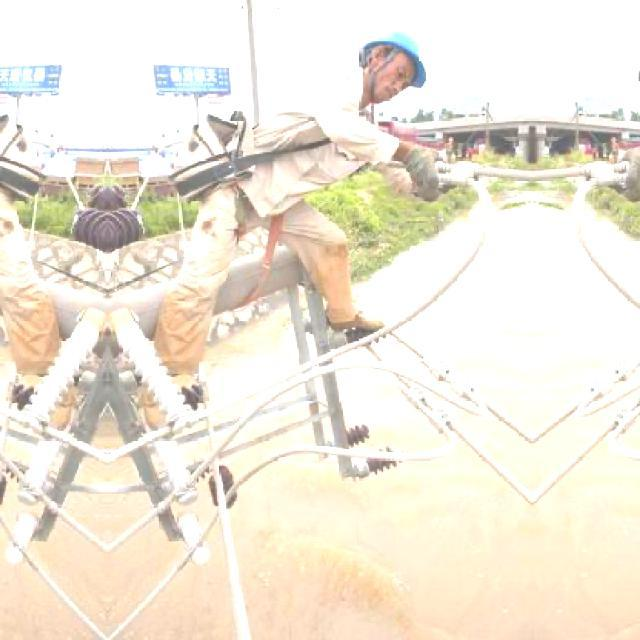safetyhelmet: (344, 21, 432, 105)
